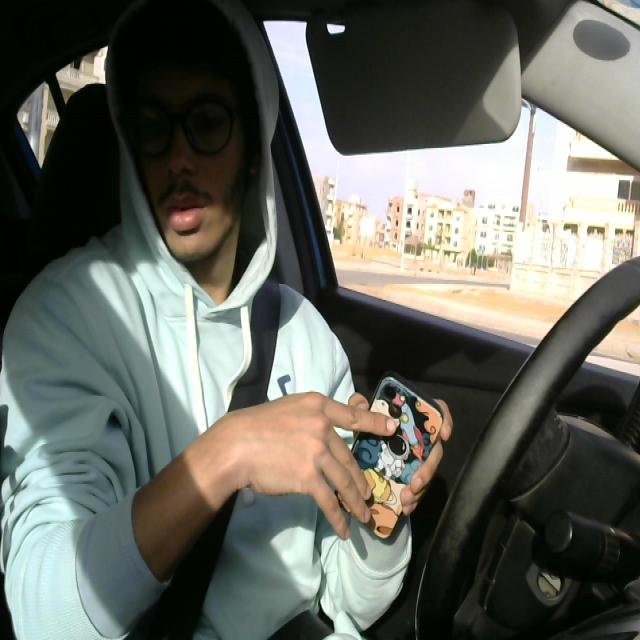mobile use: (325, 372, 443, 544)
